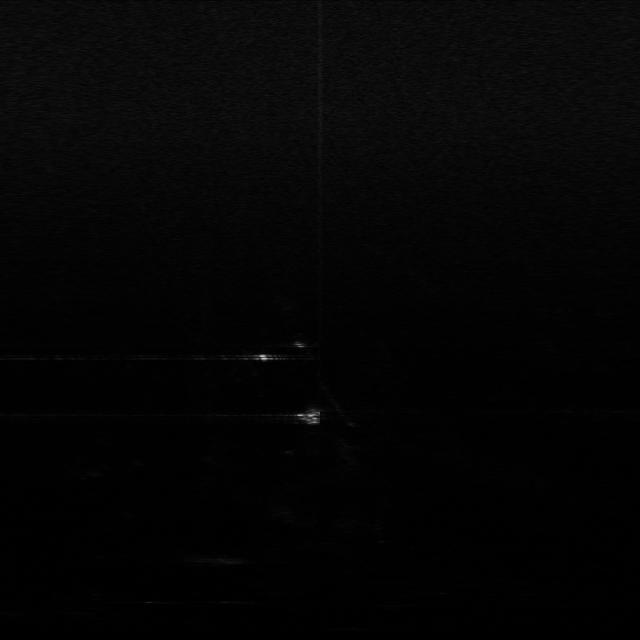rov: (290, 406, 330, 429)
